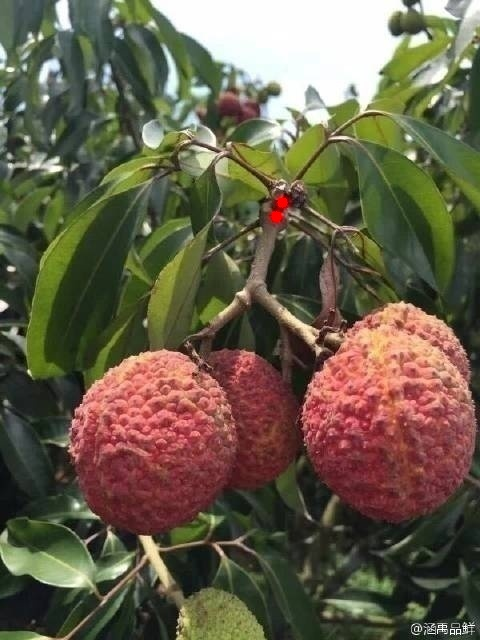litchi: (74, 319, 472, 521)
stem: (234, 221, 276, 307)
